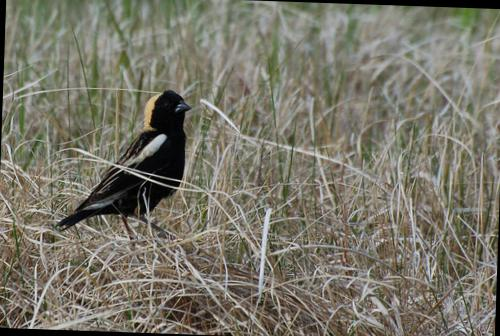bird: (46, 76, 196, 256)
